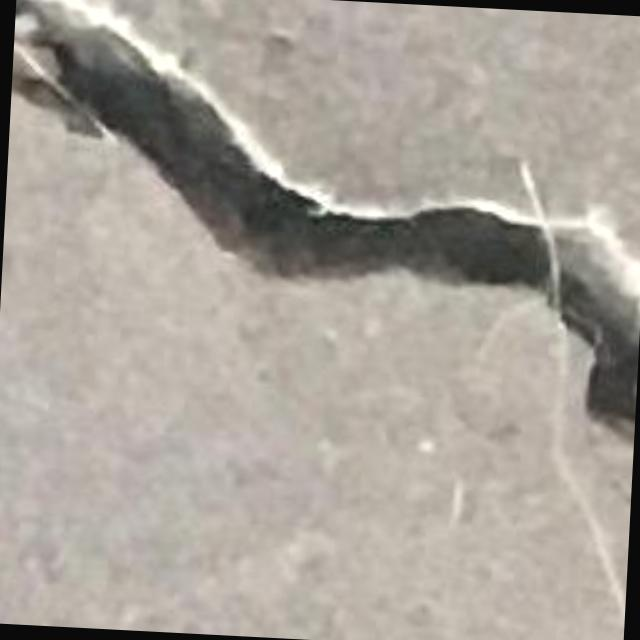crack: (12, 0, 639, 444)
